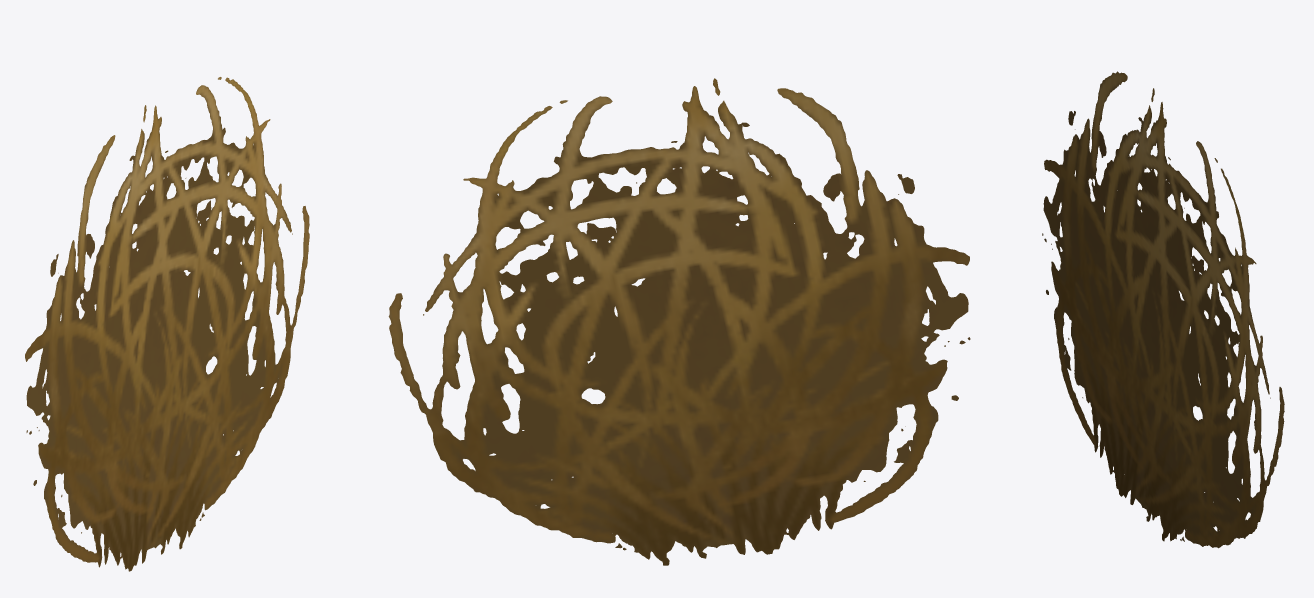
The model's file is tumble1.fbx.
The picture shows the model from 3 angles, left to right: view 1: azimuth 30°, elevation 25°; view 2: azimuth 150°, elevation 25°; view 3: azimuth 270°, elevation 25°; orthographic projection. The views are drawn at different scales.
Parts seen in each view (by area): view 1: tumble1; view 2: tumble1; view 3: tumble1.
Part boxes in pixels (x1,y1,x2,y2): tumble1: [25, 77, 309, 571]; tumble1: [388, 78, 970, 565]; tumble1: [1042, 71, 1284, 548].
Size of the model in its own units: 309 by 349 by 168.
